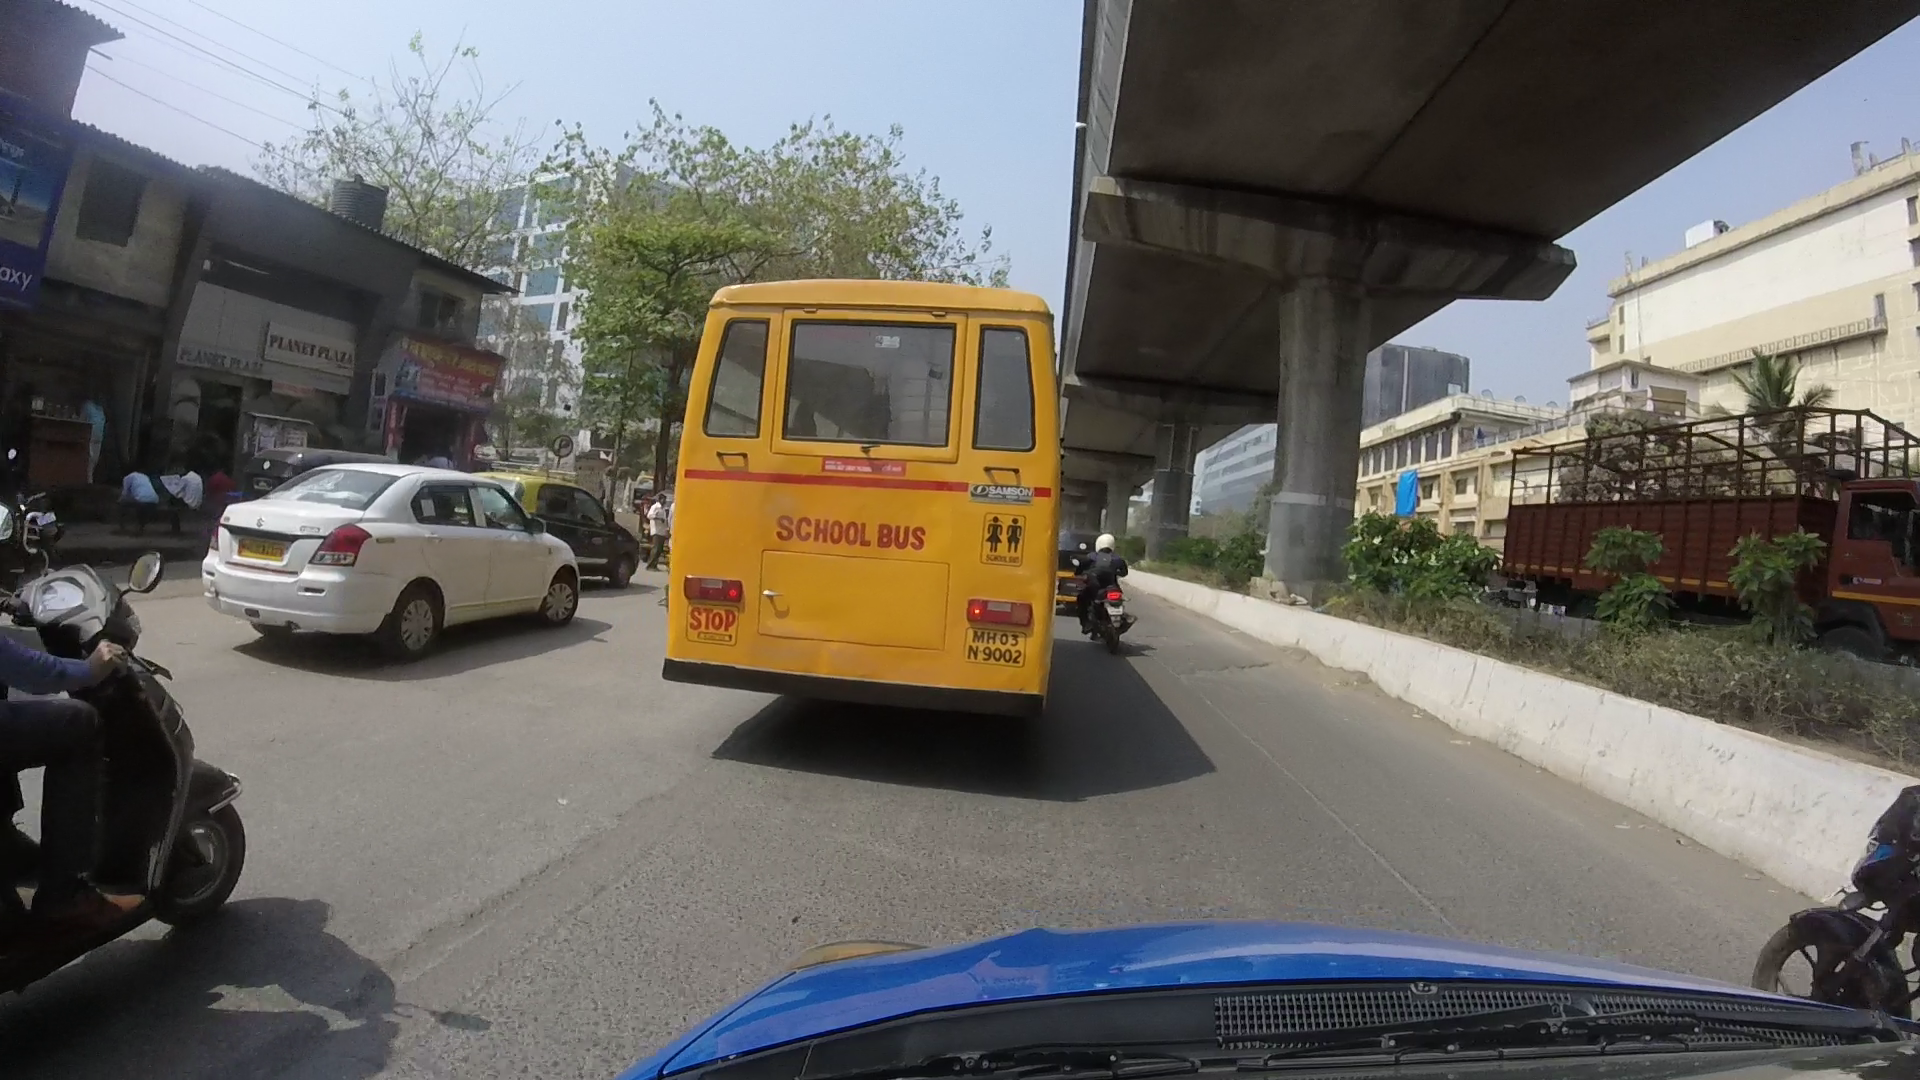bike/scooter: (1, 526, 262, 1042), (1721, 709, 1920, 1011), (1065, 506, 1139, 669)
bus: (612, 219, 1065, 771)
car: (198, 429, 585, 659)
truck: (1486, 407, 1915, 647)
